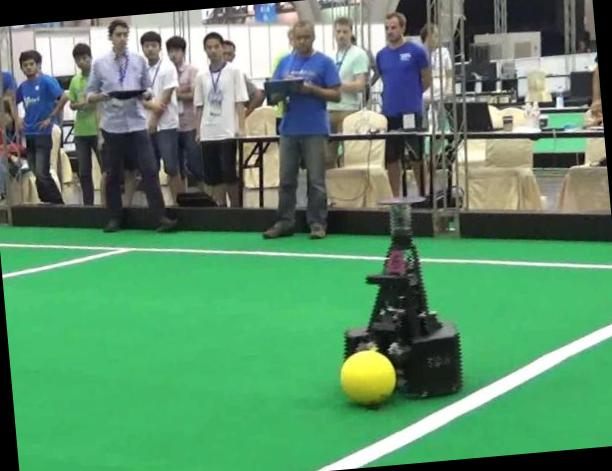ball: (340, 349, 395, 404)
person: (87, 19, 176, 231), (263, 19, 341, 238)
robot: (345, 204, 462, 396)
